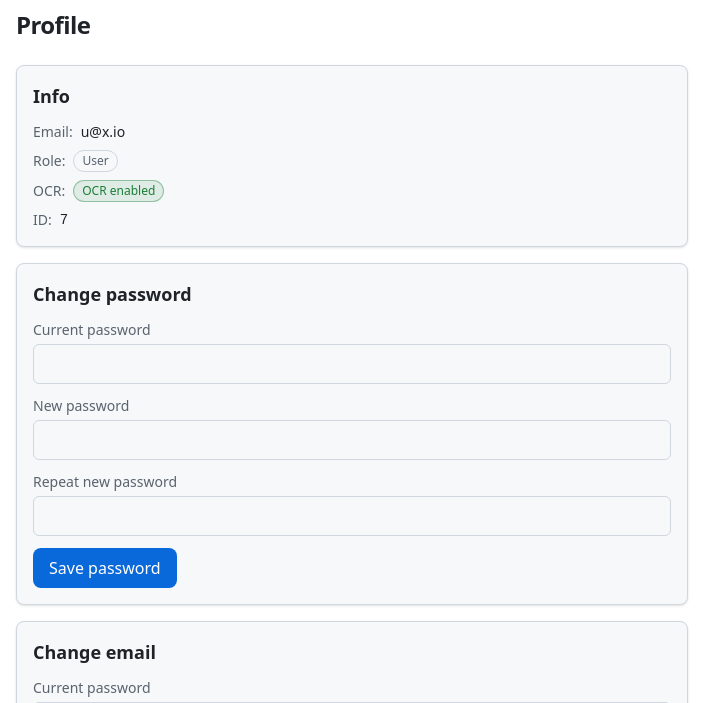
it: password success message after update
Type "Old123!" into the password field with test id "input-current-password".
click(352, 364); type("Old123!")  # box [33, 344, 671, 384]
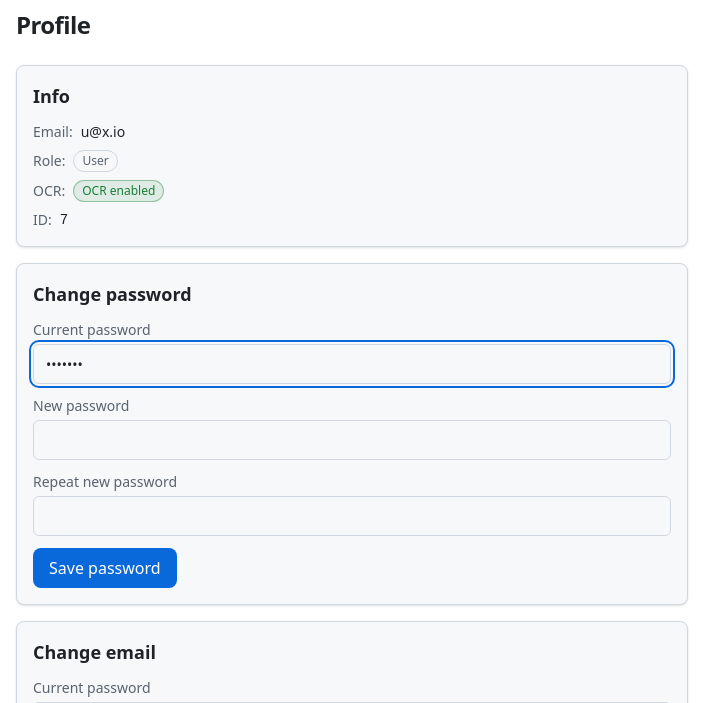
Type "New123!" into the password field with test id "input-new-password".
click(352, 440); type("New123!")  # box [33, 420, 671, 460]
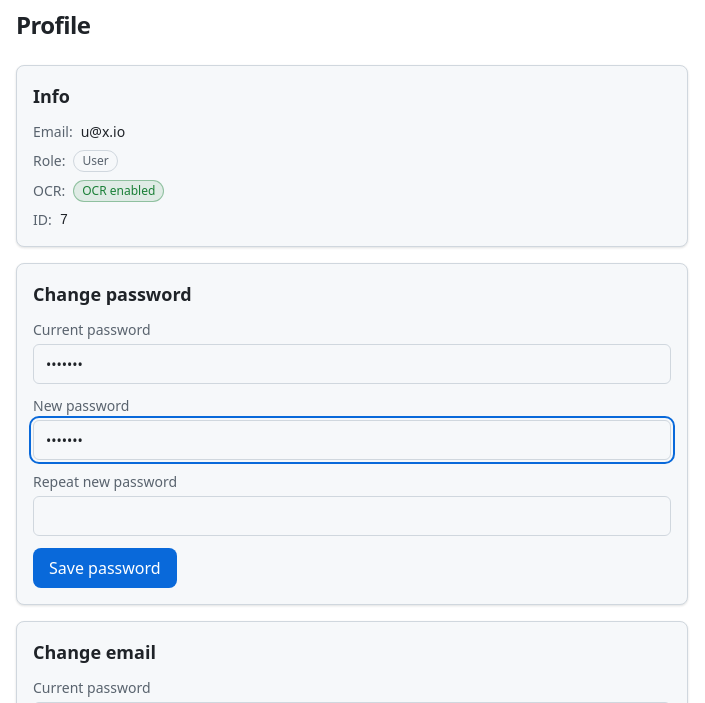
Type "New123!" into the password field with test id "input-new-password2".
click(352, 516); type("New123!")  # box [33, 496, 671, 536]
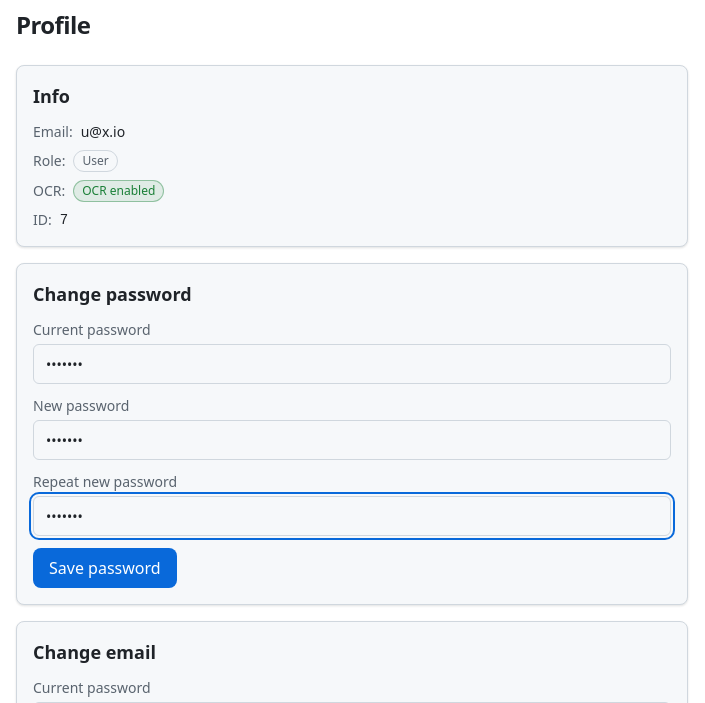
Click the button with test id "btn-save-password".
click(105, 568)  # box [33, 548, 177, 588]
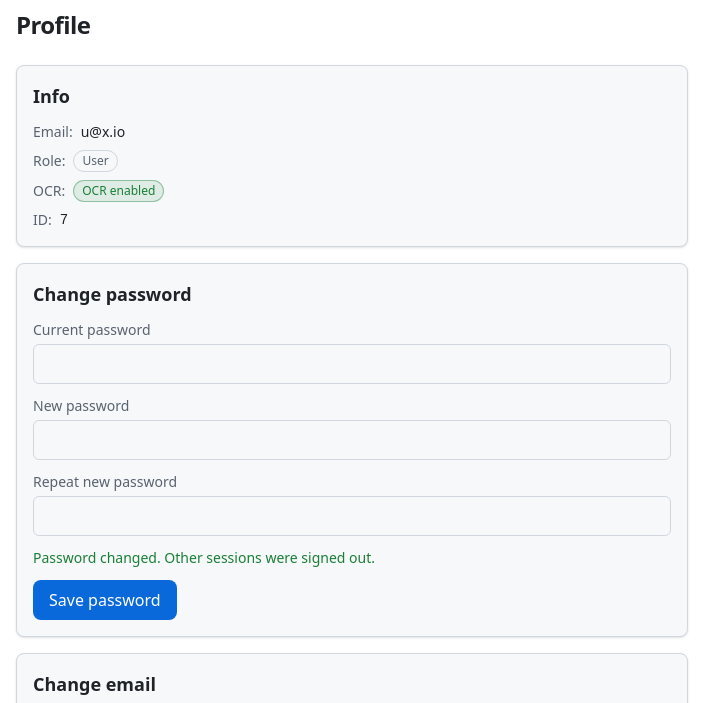
expect the text with test id "password-success" reads "Password changed. Other sessions were signed out.": met, box [33, 548, 375, 567]
